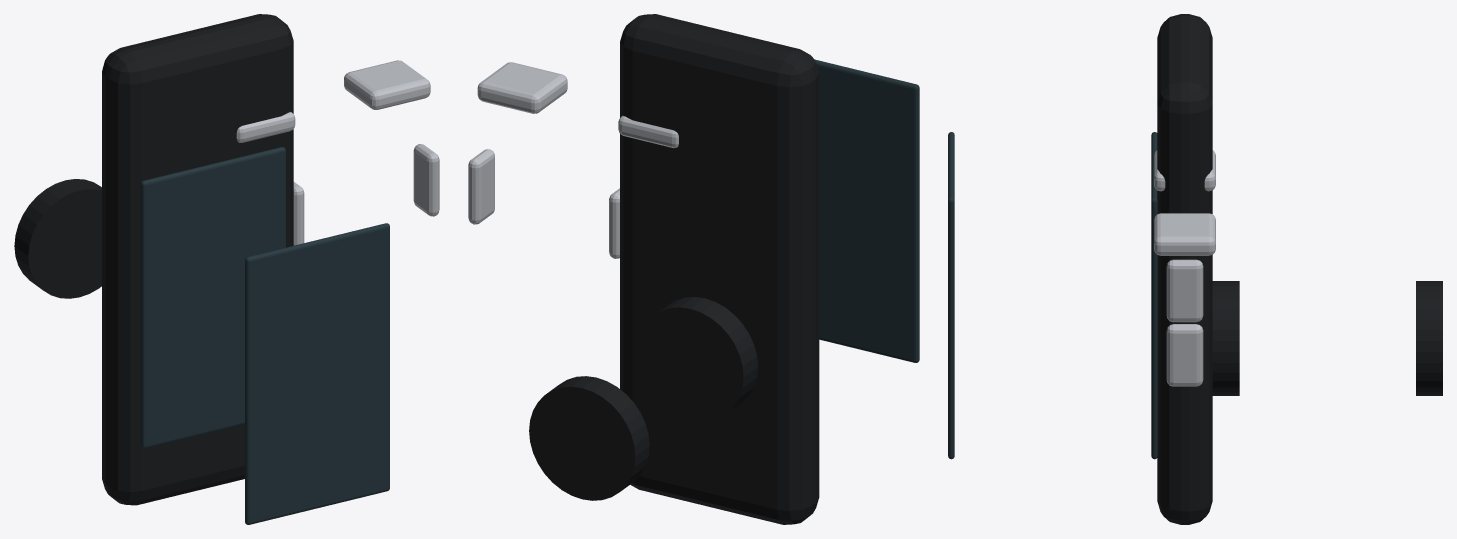
The model's file is garmin-edge1050.glb.
3 views of the same model, side by side, from view 1: azimuth 30°, elevation 25°; view 2: azimuth 150°, elevation 25°; view 3: azimuth 270°, elevation 25° (orthographic). The views are drawn at different scales.
Visible parts, largest first — view 1: garmin-edge1050_DISPLAY_EXPLODED, garmin-edge1050_DISPLAY, garmin-edge1050_BODY_EXPLODED, garmin-edge1050_BODY, garmin-edge1050_QUARTER_TURN_EXPLODED, garmin-edge1050_BUTTON_TOP_EXPLODED, garmin-edge1050_BUTTON_SIDE_EXPLODED, garmin-edge1050_BUTTON_TOP, garmin-edge1050_BUTTON_SIDE; view 2: garmin-edge1050_BODY_EXPLODED, garmin-edge1050_BODY, garmin-edge1050_DISPLAY_EXPLODED, garmin-edge1050_QUARTER_TURN_EXPLODED, garmin-edge1050_QUARTER_TURN, garmin-edge1050_BUTTON_TOP_EXPLODED, garmin-edge1050_BUTTON_SIDE_EXPLODED, garmin-edge1050_BUTTON_TOP, garmin-edge1050_BUTTON_SIDE; view 3: garmin-edge1050_BODY_EXPLODED, garmin-edge1050_BODY, garmin-edge1050_QUARTER_TURN, garmin-edge1050_QUARTER_TURN_EXPLODED, garmin-edge1050_BUTTON_TOP_EXPLODED, garmin-edge1050_BUTTON_SIDE, garmin-edge1050_BUTTON_SIDE_EXPLODED, garmin-edge1050_DISPLAY_EXPLODED, garmin-edge1050_DISPLAY.
Part boxes in pixels (bbox=[...]): garmin-edge1050_DISPLAY_EXPLODED: bbox=[245, 223, 389, 524]; garmin-edge1050_DISPLAY: bbox=[140, 147, 285, 448]; garmin-edge1050_BODY_EXPLODED: bbox=[102, 14, 293, 413]; garmin-edge1050_BODY: bbox=[102, 129, 293, 505]; garmin-edge1050_QUARTER_TURN_EXPLODED: bbox=[14, 179, 101, 298]; garmin-edge1050_BUTTON_TOP_EXPLODED: bbox=[344, 60, 430, 109]; garmin-edge1050_BUTTON_SIDE_EXPLODED: bbox=[413, 144, 439, 216]; garmin-edge1050_BUTTON_TOP: bbox=[236, 112, 295, 142]; garmin-edge1050_BUTTON_SIDE: bbox=[293, 182, 304, 245]; garmin-edge1050_BODY_EXPLODED: bbox=[620, 14, 819, 429]; garmin-edge1050_BODY: bbox=[620, 134, 819, 524]; garmin-edge1050_DISPLAY_EXPLODED: bbox=[814, 59, 919, 362]; garmin-edge1050_QUARTER_TURN_EXPLODED: bbox=[529, 376, 649, 500]; garmin-edge1050_QUARTER_TURN: bbox=[637, 297, 757, 421]; garmin-edge1050_BUTTON_TOP_EXPLODED: bbox=[477, 62, 567, 113]; garmin-edge1050_BUTTON_SIDE_EXPLODED: bbox=[468, 149, 494, 224]; garmin-edge1050_BUTTON_TOP: bbox=[618, 116, 678, 148]; garmin-edge1050_BUTTON_SIDE: bbox=[609, 188, 619, 258]; garmin-edge1050_BODY_EXPLODED: bbox=[1157, 14, 1212, 434]; garmin-edge1050_BODY: bbox=[1157, 187, 1212, 524]; garmin-edge1050_QUARTER_TURN: bbox=[1212, 281, 1239, 395]; garmin-edge1050_QUARTER_TURN_EXPLODED: bbox=[1416, 281, 1442, 395]; garmin-edge1050_BUTTON_TOP_EXPLODED: bbox=[1154, 213, 1215, 255]; garmin-edge1050_BUTTON_SIDE: bbox=[1166, 259, 1203, 322]; garmin-edge1050_BUTTON_SIDE_EXPLODED: bbox=[1166, 324, 1203, 386]; garmin-edge1050_DISPLAY_EXPLODED: bbox=[948, 132, 954, 459]; garmin-edge1050_DISPLAY: bbox=[1151, 132, 1157, 459].
Bounding box in the file's own units: 0.1082 × 0.1435 × 0.1461.
